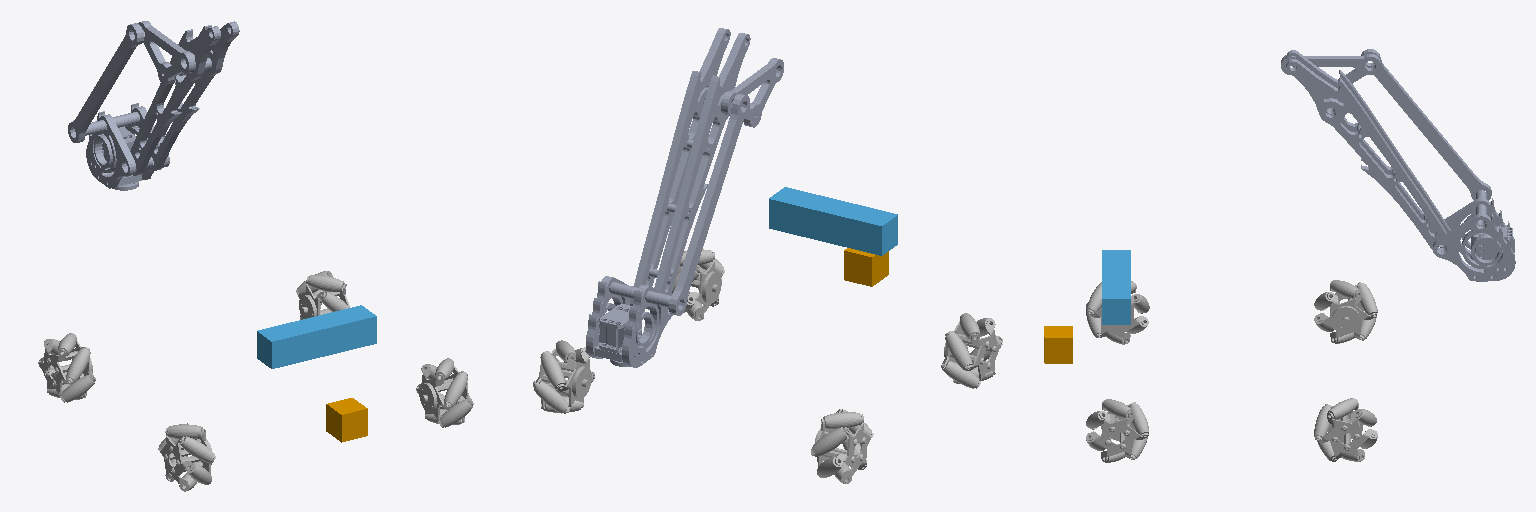
URDF robot description (ieee2015_robot):
<robot name="ieee2015_robot">
  <link
    name="base_link">
    <inertial>
      <origin
        xyz="-0.000264760661064783 0.00664648963349924 0.000264762912808713"
        rpy="0 0 0" />
      <mass
        value="15.15919256315212" /><!-- initialy 1.159-->
      <inertia
        ixx="0.0067094003476943"
        ixy="-2.34510261921351E-06"
        ixz="2.76425784672043E-05"
        iyy="0.0107618075316179"
        iyz="2.34511530954424E-06"
        izz="0.00471279526237124" />
    </inertial>
    <visual>
      <origin
        xyz="0 0 0"
        rpy="0 0 0" />
      <geometry>
        <mesh
          filename="package://ieee2015_robot/meshes/base_link.STL" />
      </geometry>
      <material
        name="">
        <color
          rgba="1 1 1 0.3" />
      </material>
    </visual>
    <collision>
      <origin
        xyz="0 0 0"
        rpy="0 0 0" />
      <geometry>
        <mesh
          filename="package://ieee2015_robot/meshes/base_link_col.STL" />
      </geometry>
    </collision>
  </link>
  <link
    name="FLWheel">
    <inertial>
      <origin
        xyz="0.00388945308315219 4.79531763399738E-06 -1.38067043967127E-06"
        rpy="0 0 0" />
      <mass
        value="0.0736541264322109" /> <!--orig 0.07-->
      <inertia
        ixx="2.77194970489744E-05"
        ixy="-3.49012075170458E-09"
        ixz="9.77296011958984E-10"
        iyy="1.93054417330485E-05"
        iyz="-8.00993708107148E-10"
        izz="1.93080458554619E-05" />
    </inertial>
    <visual>
      <origin
        xyz="0 0 0"
        rpy="0 0 0" />
      <geometry>
        <mesh
          filename="package://ieee2015_robot/meshes/FLWheel.STL" />
      </geometry>
      <material
        name="">
        <color
          rgba="0.752941176470588 0.752941176470588 0.752941176470588 1" />
      </material>
    </visual>
    <collision>
      <origin
        xyz="0 0 0"
        rpy="0 0 0" />
      <geometry>
        <mesh
          filename="package://ieee2015_robot/meshes/FLWheel_col.STL" />
      </geometry>
    </collision>
  </link>
  <joint
    name="FLWheelCont"
    type="continuous">
    <origin
      xyz="0.1171 -0.099064 -0.040162"
      rpy="1.5708 0 0" />
    <parent
      link="base_link" />
    <child
      link="FLWheel" />
    <axis
      xyz="1 0 0" />
  </joint>
  <link
    name="FRWheel">
    <inertial>
      <origin
        xyz="-0.238089456274567 3.97925711011909E-06 2.9933165490853E-06"
        rpy="0 0 0" />
      <mass
        value="0.0736541281508339" />  <!---->
      <inertia
        ixx="2.77194939807717E-05"
        ixy="2.89824828067423E-09"
        ixz="2.20292420934118E-09"
        iyy="1.93063135407214E-05"
        iyz="1.46689816627202E-09"
        izz="1.93071731398088E-05" />
    </inertial>
    <visual>
      <origin
        xyz="0 0 0"
        rpy="0 0 0" />
      <geometry>
        <mesh
          filename="package://ieee2015_robot/meshes/FRWheel.STL" />
      </geometry>
      <material
        name="">
        <color
          rgba="0.752941176470588 0.752941176470588 0.752941176470588 1" />
      </material>
    </visual>
    <collision>
      <origin
        xyz="0 0 0"
        rpy="0 0 0" />
      <geometry>
        <mesh
          filename="package://ieee2015_robot/meshes/FRWheel_col.STL" />
      </geometry>
    </collision>
  </link>
  <joint
    name="FRWheelCont"
    type="continuous">
    <origin
      xyz="0.1171 -0.09906355201 -0.0401615"
      rpy="1.5707963267949 0 0" />
    <parent
      link="base_link" />
    <child
      link="FRWheel" />
    <axis
      xyz="1 0 0" />
  </joint>
  <link
    name="BLWheel">
    <inertial>
      <origin
        xyz="0.00388945627456712 3.97925711014685E-06 -2.99331654884938E-06"
        rpy="0 0 0" />
      <mass
        value="0.0736541281508339" />  <!---->
      <inertia
        ixx="2.77194939807717E-05"
        ixy="-2.89824828068812E-09"
        ixz="2.2029242093398E-09"
        iyy="1.93063135407214E-05"
        iyz="-1.46689816627361E-09"
        izz="1.93071731398088E-05" />
    </inertial>
    <visual>
      <origin
        xyz="0 0 0"
        rpy="0 0 0" />
      <geometry>
        <mesh
          filename="package://ieee2015_robot/meshes/BLWheel.STL" />
      </geometry>
      <material
        name="">
        <color
          rgba="0.752941176470588 0.752941176470588 0.752941176470588 1" />
      </material>
    </visual>
    <collision>
      <origin
        xyz="0 0 0"
        rpy="0 0 0" />
      <geometry>
        <mesh
          filename="package://ieee2015_robot/meshes/BLWheel_col.STL" />
      </geometry>
    </collision>
  </link>
  <joint
    name="BLWheelCont"
    type="continuous">
    <origin
      xyz="0.1171 0.0990635520100003 -0.0401615"
      rpy="1.5707963267949 0 0" />
    <parent
      link="base_link" />
    <child
      link="BLWheel" />
    <axis
      xyz="0 0 0" />
  </joint>
  <link
    name="BRWheel">
    <inertial>
      <origin
        xyz="-0.00636445308315207 4.79531763405289E-06 1.38067043978229E-06"
        rpy="0 0 0" />
      <mass
        value="0.0736541264322109" />   <!---->
      <inertia
        ixx="2.77194970489743E-05"
        ixy="3.49012075168172E-09"
        ixz="9.77296011957692E-10"
        iyy="1.93054417330485E-05"
        iyz="8.00993708090894E-10"
        izz="1.93080458554619E-05" />
    </inertial>
    <visual>
      <origin
        xyz="0 0 0"
        rpy="0 0 0" />
      <geometry>
        <mesh
          filename="package://ieee2015_robot/meshes/BRWheel.STL" />
      </geometry>
      <material
        name="">
        <color
          rgba="0.752941176470588 0.752941176470588 0.752941176470588 1" />
      </material>
    </visual>
    <collision>
      <origin
        xyz="0 0 0"
        rpy="0 0 0" />
      <geometry>
        <mesh
          filename="package://ieee2015_robot/meshes/BRWheel_col.STL" />
      </geometry>
    </collision>
  </link>
  <joint
    name="BRWheelCont"
    type="continuous">
    <origin
      xyz="-0.114625 0.09906355201 -0.0401615"
      rpy="1.5707963267949 0 0" />
    <parent
      link="base_link" />
    <child
      link="BRWheel" />
    <axis
      xyz="1 0 0" />
  </joint>
  <link
    name="ArmYRot">
    <inertial>
      <origin
        xyz="0.000681964404144919 0.0310539448648574 -0.0127837530436466"
        rpy="0 0 0" />
      <mass
        value="0.271743531126574" />  <!--was .57-->
      <inertia
        ixx="0.00130664575781196"
        ixy="2.01805366799632E-05"
        ixz="2.44737795526061E-06"
        iyy="0.00169284950533526"
        iyz="5.18921274682049E-05"
        izz="0.00108415740916047" />
    </inertial>
    <visual>
      <origin
        xyz="0 0 0"
        rpy="0 0 0" />
      <geometry>
        <mesh
          filename="package://ieee2015_robot/meshes/ArmYRot.STL" />
      </geometry>
      <material
        name="">
        <color
          rgba="0.666666666666667 0.694117647058824 0.764705882352941 1" />
      </material>
    </visual>
    <collision>
      <origin
        xyz="0 0 0"
        rpy="0 0 0" />
      <geometry>
        <mesh
          filename="package://ieee2015_robot/meshes/ArmYRot_col.STL" />
      </geometry>
    </collision>
  </link>
  <joint
    name="ArmYRotCont"
    type="revolute">
    <origin
      xyz="0 0 0.02266"
      rpy="1.5708 -4.2993E-16 -3.14" />
    <parent
      link="base_link" />
    <child
      link="ArmYRot" />
    <axis
      xyz="0 -1 0" />
      <limit
      lower="-999"
      upper="999"
      effort="10"
      velocity="1" />
  </joint>
  <link
    name="ArmRot1">
    <inertial>
      <origin
        xyz="0.00851780401293389 0.0652472578677626 0.0130718014658456"
        rpy="0 0 0" />
      <mass
        value="0.187629627425225" /> <!--was .24-->
      <inertia
        ixx="0.00083952384826181"
        ixy="5.66840333807547E-05"
        ixz="-2.23733251784933E-05"
        iyy="0.000383812124258634"
        iyz="0.000139676728992712"
        izz="0.000756587555727813" />
    </inertial>
    <visual>
      <origin
        xyz="0 0 0"
        rpy="0 0 0" />
      <geometry>
        <mesh
          filename="package://ieee2015_robot/meshes/ArmRot1.STL" />
      </geometry>
      <material
        name="">
        <color
          rgba="0.666666666666667 0.694117647058824 0.764705882352941 1" />
      </material>
    </visual>
    <collision>
      <origin
        xyz="0 0 0"
        rpy="0 0 0" />
      <geometry>
        <mesh
          filename="package://ieee2015_robot/meshes/ArmRot1_col.STL" />
      </geometry>
    </collision>
  </link>
  <joint
    name="ArmRot1Rev"
    type="revolute">
    <origin
      xyz="1.143E-05 0.057267 0.020728"
      rpy="-7.3956E-32 -1.1102E-16 1.7931E-21" />
    <parent
      link="ArmYRot" />
    <child
      link="ArmRot1" />
    <axis
      xyz="1 0 0" />
    <limit
      lower="-1.77"
      upper="1.37"
      effort="10"
      velocity="1" />
  </joint>
  <link
    name="ArmRot2">
    <inertial>
      <origin
        xyz="0.00563335405046204 -0.0743495625672852 0.0774120463323625"
        rpy="0 0 0" />
      <mass
        value="0.204282093236145" /> <!--was .27-->
      <inertia
        ixx="0.00181284257514748"
        ixy="5.21711953619901E-05"
        ixz="8.55557751729304E-06"
        iyy="0.000875758646833159"
        iyz="-0.000829845988777018"
        izz="0.00111595357767381" />
    </inertial>
    <visual>
      <origin
        xyz="0 0 0"
        rpy="0 0 0" />
      <geometry>
        <mesh
          filename="package://ieee2015_robot/meshes/ArmRot2.STL" />
      </geometry>
      <material
        name="">
        <color
          rgba="0.666666666666667 0.694117647058824 0.764705882352941 1" />
      </material>
    </visual>
    <collision>
      <origin
        xyz="0 0 0"
        rpy="0 0 0" />
      <geometry>
        <mesh
          filename="package://ieee2015_robot/meshes/ArmRot2_col.STL" />
      </geometry>
    </collision>
  </link>
  <joint
    name="ArmRot2Rev"
    type="revolute">
    <origin
      xyz="-1.143E-05 0.13289 0.065139"
      rpy="4.9304E-32 0 6.1824E-18" />
    <parent
      link="ArmRot1" />
    <child
      link="ArmRot2" />
    <axis
      xyz="1 0 0" />
    <limit
      lower="-5"
      upper=".9"
      effort="10"
      velocity="1" />
  </joint>


 <gazebo reference="FLWheel">
      <material>Gazebo/Gold</material>
  </gazebo>
  <gazebo reference="FRWheel">
      <material>Gazebo/Gold</material>
  </gazebo>
  <gazebo reference="BLWheel">
      <material>Gazebo/Gold</material>
  </gazebo>
  <gazebo reference="BRWheel">
      <material>Gazebo/Gold</material>
  </gazebo>


  <gazebo reference="base_link">
      <material>Gazebo/Blue</material>
  </gazebo>
  <gazebo reference="camera_link">
      <material>Gazebo/Red</material>
  </gazebo>
  <gazebo reference="kinect_link">
      <material>Gazebo/Red</material>
  </gazebo>


  <gazebo reference="ArmYRot">
      <material>Gazebo/Gold</material>
  </gazebo>
  <gazebo reference="ArmRot1">
      <material>Gazebo/Blue</material>
  </gazebo>
  <gazebo reference="ArmRot2">
      <material>Gazebo/Gold</material>
  </gazebo>


  <gazebo>
      <plugin name="object_controller" filename="libgazebo_ros_planar_move.so">
        <commandTopic>desired_velocity</commandTopic>
        <odometryTopic>odom</odometryTopic>
        <odometryFrame>odom</odometryFrame>
        <odometryRate>20.0</odometryRate>
        <robotBaseFrame>base_link</robotBaseFrame>
      </plugin>
  </gazebo>



  <transmission name="ArmYRotTrans">
    <type>transmission_interface/SimpleTransmission</type>
    <joint name="ArmYRotCont">
      <hardwareInterface>EffortJointInterface</hardwareInterface>
    </joint>
    <actuator name="ArmYRotMotor">
      <hardwareInterface>EffortJointInterface</hardwareInterface>
      <mechanicalReduction>1</mechanicalReduction>
    </actuator>
  </transmission>

  <transmission name="ArmRot1Trans">
    <type>transmission_interface/SimpleTransmission</type>
    <joint name="ArmRot1Rev">
      <hardwareInterface>EffortJointInterface</hardwareInterface>
    </joint>
    <actuator name="ArmRot1Motor">
      <hardwareInterface>EffortJointInterface</hardwareInterface>
      <mechanicalReduction>1</mechanicalReduction>
    </actuator>
  </transmission>

  <transmission name="ArmRot2Trans">
    <type>transmission_interface/SimpleTransmission</type>
    <joint name="ArmRot2Rev">
      <hardwareInterface>EffortJointInterface</hardwareInterface>
    </joint>
    <actuator name="ArmRot2Motor">
      <hardwareInterface>EffortJointInterface</hardwareInterface>
      <mechanicalReduction>1</mechanicalReduction>
    </actuator>
  </transmission>


  <gazebo>
    <plugin name="gazebo_ros_control" filename="libgazebo_ros_control.so">
      <robotNamespace>/robot</robotNamespace>
    </plugin>
  </gazebo>


  <!-- Camera -->
  <joint name="camera_joint" type="fixed">
     <origin xyz="0 -.15 -.015" rpy="0 0 -1.57"/>
     <parent link="base_link"/>
     <child link="camera_link"/>
     <axis xyz="1 0 0" />
  </joint>

  <link name="camera_link">
    <inertial>
      <mass value="1e-5" />
      <origin xyz="0 0 0" rpy="0 0 0"/>
      <inertia ixx="1e-6" ixy="0" ixz="0" iyy="1e-6" iyz="0" izz="1e-6" />
    </inertial>

    <visual>
      <origin xyz="0 0 0" rpy="0 0 0"/>
      <geometry>
        <box size="0.025 0.025 0.025"/>
      </geometry>
    </visual>

    <collision>
      <origin xyz="0 0 0" rpy="0 0 0"/>
      <geometry>
        <box size="0.025 0.025 0.025"/>
      </geometry>
    </collision> 
  </link>

   <gazebo reference="camera_link">
    <sensor type="camera" name="camera1">
      <update_rate>30.0</update_rate>
      <camera name="head">
        <horizontal_fov>1.3962634</horizontal_fov>
        <image>
          <width>800</width>
          <height>800</height>
          <format>R8G8B8</format>
        </image>
        <clip>
          <near>0.02</near>
          <far>300</far>
        </clip>
        <noise>
          <type>gaussian</type>
          <!-- Noise is sampled independently per pixel on each frame.
               That pixel's noise value is added to each of its color
               channels, which at that point lie in the range [0,1]. -->

          <mean>0.0</mean>
          <stddev>0.007</stddev>
        </noise>
      </camera>
      <plugin name="camera_controller" filename="libgazebo_ros_camera.so">
        <alwaysOn>true</alwaysOn>
        <updateRate>0.0</updateRate>
        <cameraName>robot/camera1</cameraName>
        <imageTopicName>image</imageTopicName>
        <cameraInfoTopicName>camera_info</cameraInfoTopicName>
        <frameName>camera_link</frameName>
        <hackBaseline>0.07</hackBaseline>
        <distortionK1>0.0</distortionK1>
        <distortionK2>0.0</distortionK2>
        <distortionK3>0.0</distortionK3>
        <distortionT1>0.0</distortionT1>
        <distortionT2>0.0</distortionT2>
      </plugin>
    </sensor>
  </gazebo> 


<!-- Kinect -->
  <joint name="kinect_joint" type="fixed">
     <origin xyz="0 -.1 .04" rpy="0 0 -1.57"/>
     <parent link="base_link"/>
     <child link="kinect_link"/>
     <axis xyz="1 0 0" />
  </joint>
 
  <link name="kinect_link">
    <inertial>
      <mass value="1e-5" />
      <origin xyz="0 0 0" rpy="0 0 0"/>
      <inertia ixx="1e-6" ixy="0" ixz="0" iyy="1e-6" iyz="0" izz="1e-6" />
    </inertial>

    <visual>
      <origin xyz="0 0 0" rpy="0 0 0"/>
      <geometry>
        <box size="0.025 0.1 0.025"/>
      </geometry>
    </visual>

    <collision>
      <origin xyz="0 0 0" rpy="0 0 0"/>
      <geometry>
        <box size="0.1 0.025 0.025"/>
      </geometry>
    </collision> 
  </link>

<gazebo reference="kinect_link">
    <sensor type="depth" name="kinect">       
        <always_on>1</always_on>
        <visualize>true</visualize>             
        <camera>
            <horizontal_fov>1.047</horizontal_fov>  
            <image>
                <width>640</width>
                <height>480</height>
                <format>R8G8B8</format>
            </image>
            <depth_camera>

            </depth_camera>
            <clip>
                <near>0.1</near>
                <far>100</far>
            </clip>
        </camera>
        <plugin name="kinect_controller" filename="libgazebo_ros_openni_kinect.so">
            <alwaysOn>true</alwaysOn>
            <updateRate>10.0</updateRate>
            <cameraName>robot/kinect</cameraName>
            <frameName>kinect_link</frameName>                   
            <imageTopicName>rgb/image_raw</imageTopicName>
            <depthImageTopicName>depth/image_raw</depthImageTopicName>
            <pointCloudTopicName>depth/points</pointCloudTopicName>
            <cameraInfoTopicName>rgb/camera_info</cameraInfoTopicName>              
            <depthImageCameraInfoTopicName>depth/camera_info</depthImageCameraInfoTopicName>            
            <pointCloudCutoff>0.4</pointCloudCutoff>                
            <hackBaseline>0.07</hackBaseline>
            <distortionK1>0.0</distortionK1>
            <distortionK2>0.0</distortionK2>
            <distortionK3>0.0</distortionK3>
            <distortionT1>0.0</distortionT1>
            <distortionT2>0.0</distortionT2>
            <CxPrime>0.0</CxPrime>
            <Cx>0.0</Cx>
            <Cy>0.0</Cy>
            <focalLength>0.0</focalLength>
        </plugin>
    </sensor>
</gazebo>


</robot>

--- What the picture shows (computed from the rendered views, not written in the file) ---
3 views of the same robot in one strip: view 1: azimuth 30°, elevation 25°; view 2: azimuth 150°, elevation 25°; view 3: azimuth 270°, elevation 25° (orthographic).
Robot: ieee2015_robot — 10 links, 9 joints (3 revolute, 4 continuous, 2 fixed); root link base_link; default pose: all joints at 0.
Links seen in each view (by area): view 1: ArmRot2, kinect_link, FLWheel, FRWheel, BRWheel, BLWheel, camera_link; view 2: ArmRot2, kinect_link, BRWheel, BLWheel, FRWheel, FLWheel, camera_link; view 3: ArmRot2, BLWheel, BRWheel, FLWheel, kinect_link, FRWheel, camera_link.
Link boxes in pixels (x1,y1,x2,y2): ArmRot2: [68, 21, 239, 190]; kinect_link: [257, 305, 376, 368]; FLWheel: [416, 358, 473, 427]; FRWheel: [158, 423, 215, 491]; BRWheel: [38, 333, 95, 402]; BLWheel: [296, 271, 349, 319]; camera_link: [326, 398, 367, 442]; ArmRot2: [586, 28, 783, 367]; kinect_link: [769, 187, 897, 255]; BRWheel: [811, 409, 873, 483]; BLWheel: [533, 340, 594, 413]; FRWheel: [941, 313, 1002, 388]; FLWheel: [671, 249, 724, 320]; camera_link: [844, 248, 888, 286]; ArmRot2: [1281, 49, 1515, 281]; BLWheel: [1314, 398, 1377, 461]; BRWheel: [1314, 280, 1377, 343]; FLWheel: [1086, 399, 1148, 462]; kinect_link: [1102, 250, 1130, 324]; FRWheel: [1086, 281, 1149, 344]; camera_link: [1044, 326, 1072, 363].
Bounding box of the posed robot: 0.2764 × 0.4086 × 0.3296 m (x, y, z).
Meshes: 8 distinct files referenced, 5 mesh visuals loaded (5 binary STL); not drawn: 3 (reference not matched to a file when rendering).